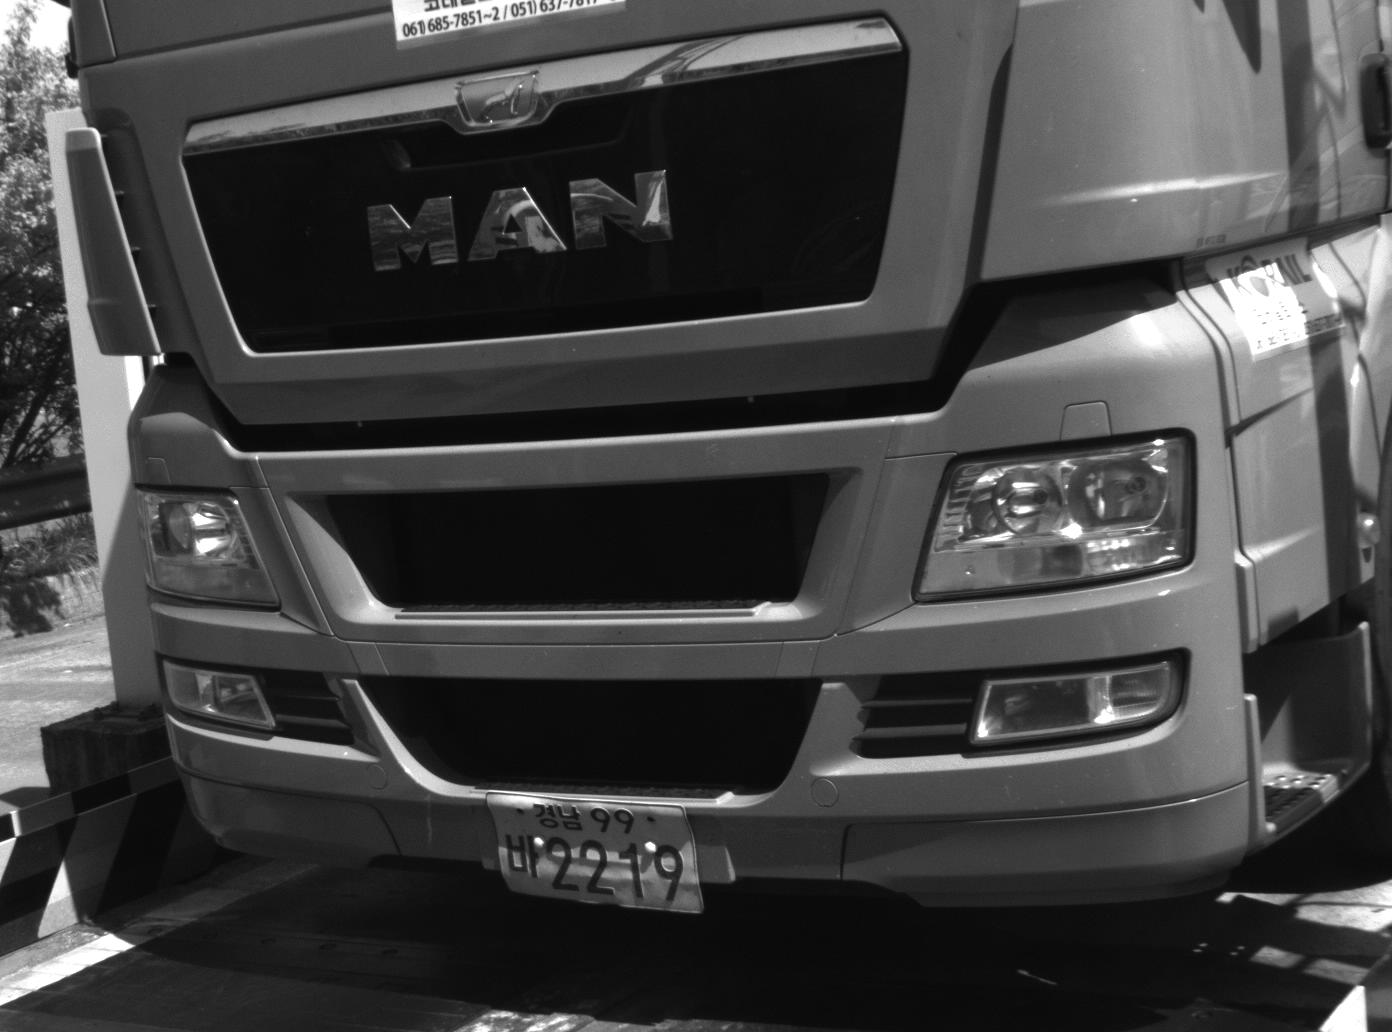car: (38, 1, 1390, 922)
plate: (481, 790, 707, 917)
